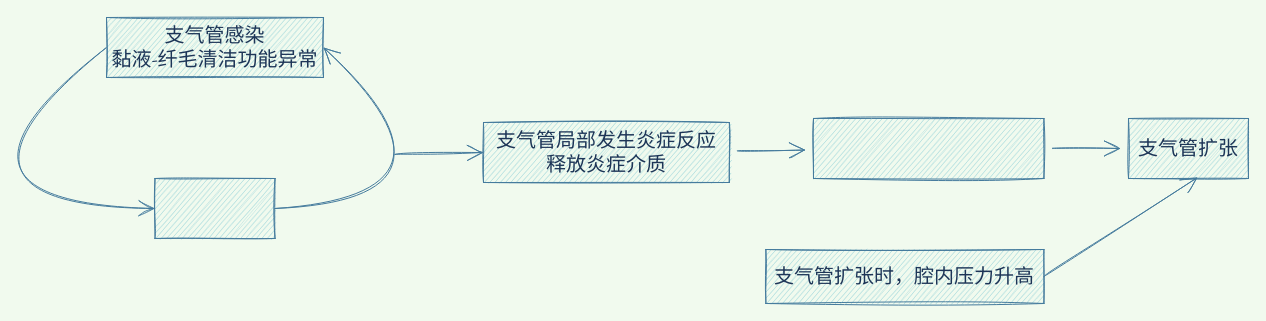
Image size: 1266x321. Some labels were removed from this diagram. The shapes that lost their labels are listed below. From the top down, each one's centre as x and y in pixels, then its label:
At (928,148): "破坏支气管管壁各层组织 削弱了管壁的支撑".
At (214,208): "支气管阻塞".
